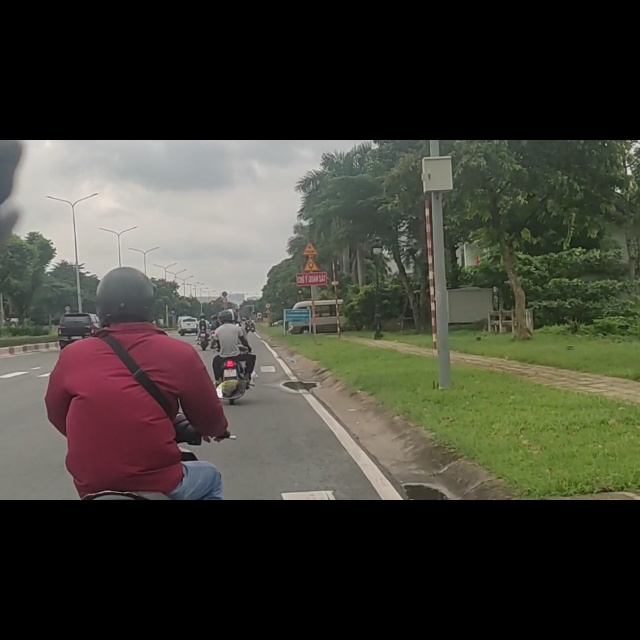bien_cam: (303, 210, 322, 235), (301, 181, 319, 205), (221, 269, 227, 279)
